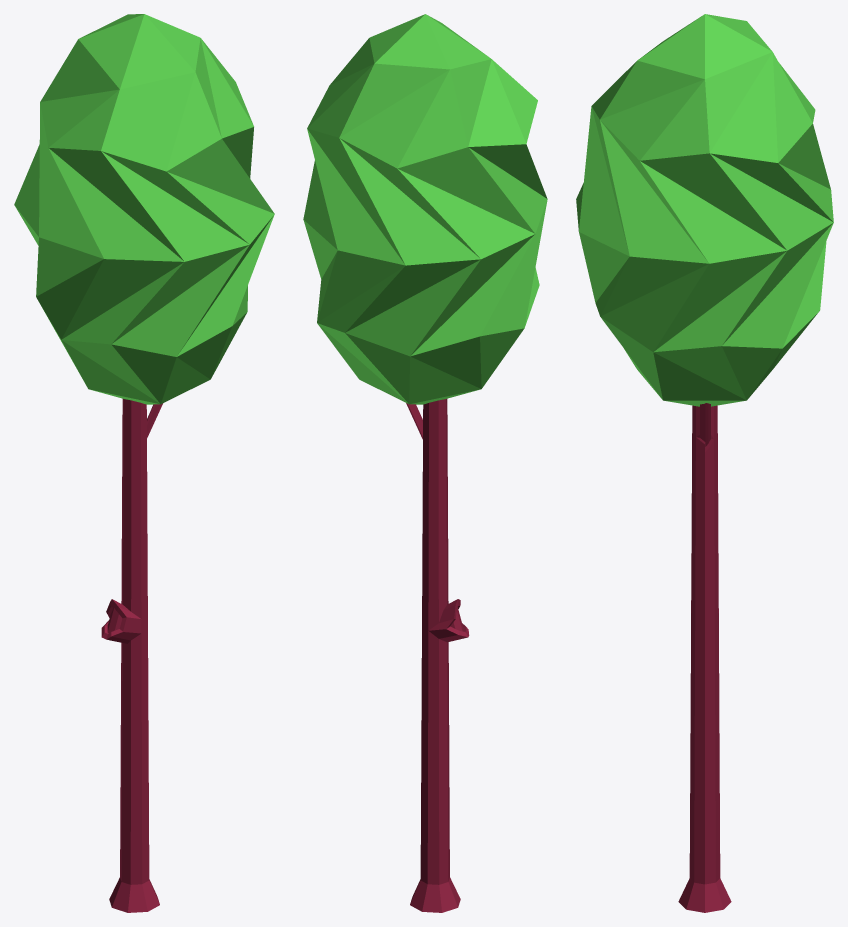
Rendered from Tree5.fbx.
3 renders of one model, left to right at view 1: azimuth 30°, elevation 25°; view 2: azimuth 150°, elevation 25°; view 3: azimuth 270°, elevation 25°, orthographic.
Parts seen in each view (by area): view 1: Cylinder; view 2: Cylinder; view 3: Cylinder.
Part boxes in pixels (left/top/right/bottom): Cylinder: left=14, top=14, right=274, bottom=912; Cylinder: left=303, top=14, right=547, bottom=912; Cylinder: left=576, top=14, right=833, bottom=912.
Bounding box in the file's own units: 233 × 914 × 239.
